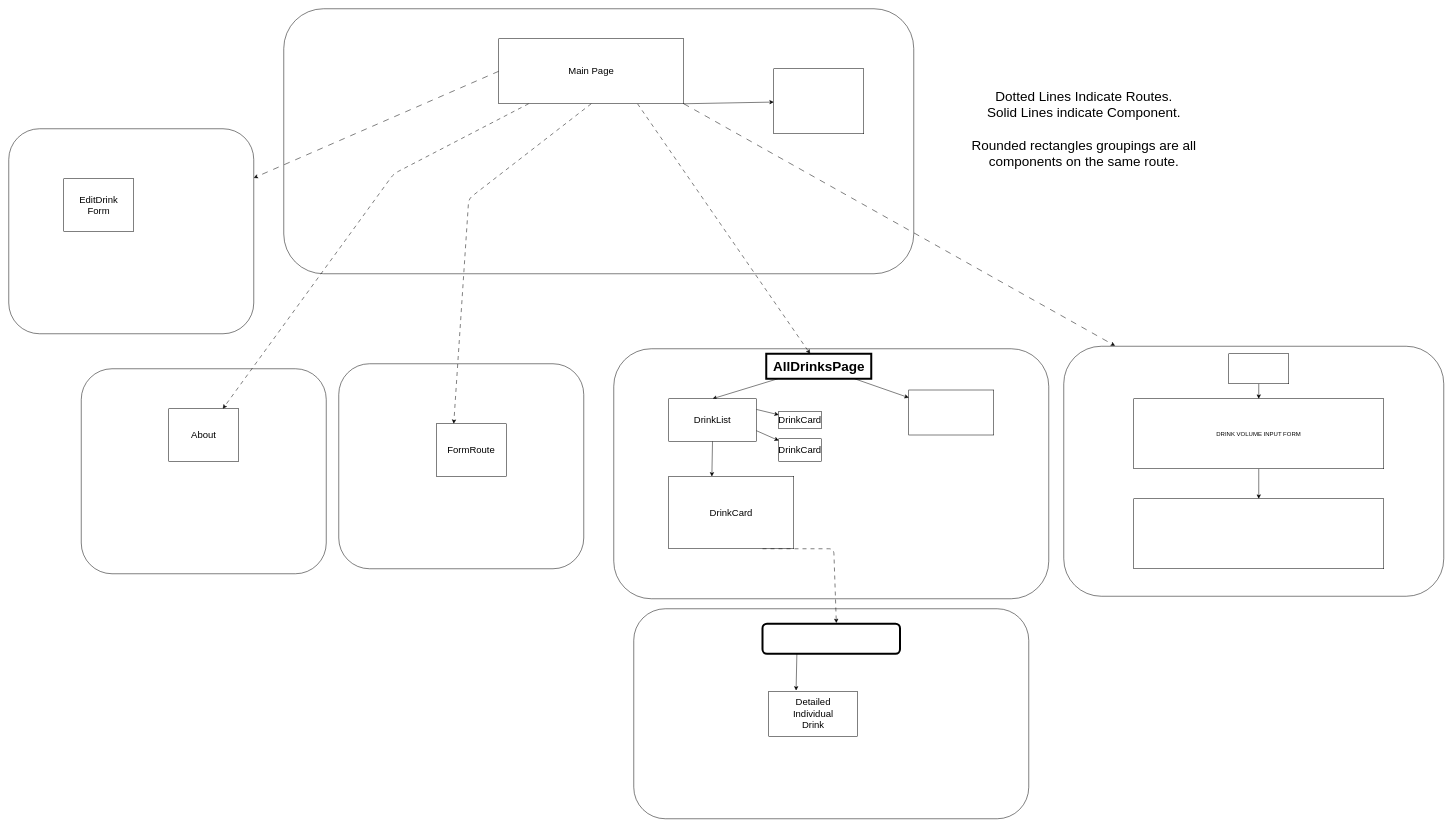
The diagram is 1453 pixels wide and 828 high, and some of its shapes have lost their labels. The shapes that lost their labels are listed below. From the top down, each one's centre as x and y in pixels, then its label:
the point at 818,101: NavBar Component
the point at 1258,368: DRINKTRACKER
the point at 951,412: Search-bar
the point at 1258,533: DRINK VOLUME BAR GRAPH + GOAL
the point at 831,638: Individual Drink
